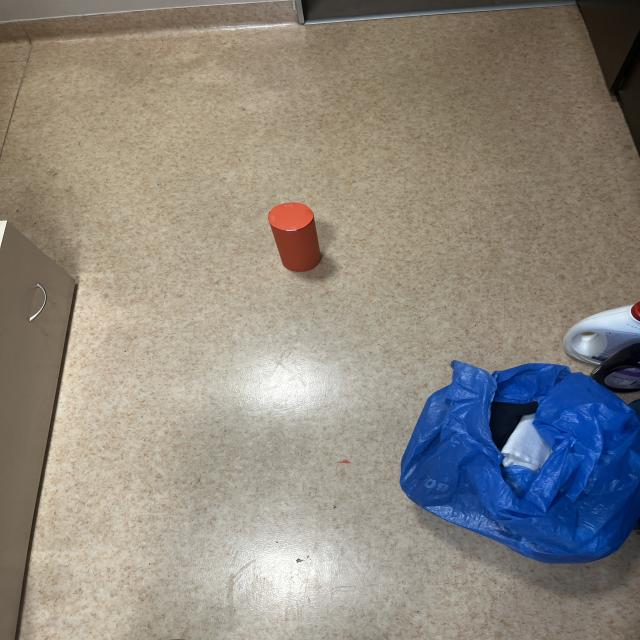przeszkoda: (268, 203, 321, 272)
